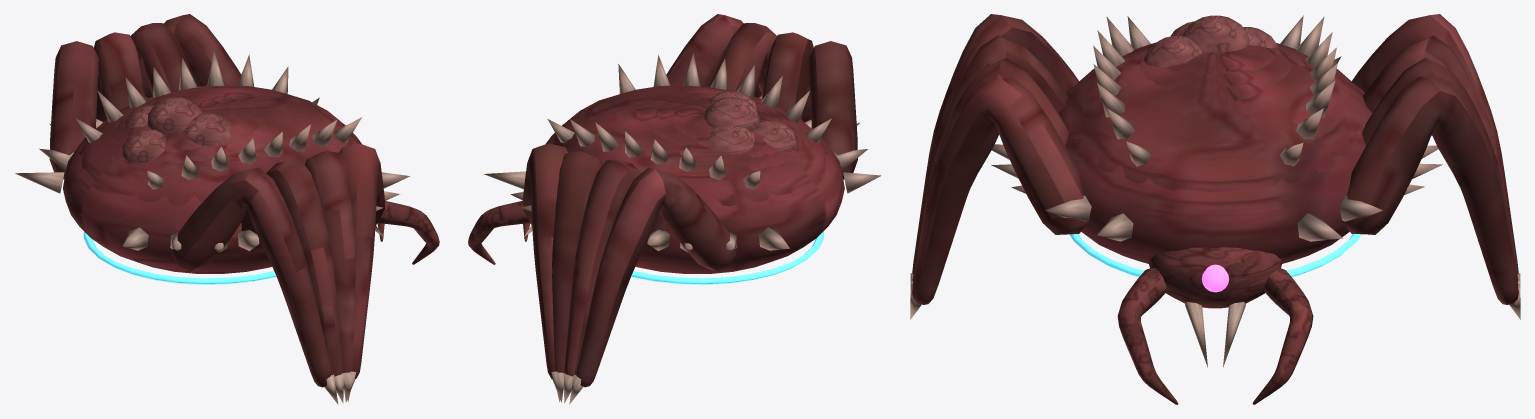
File: boss_leviathan.glb
The picture shows the model from 3 angles, left to right: view 1: azimuth 30°, elevation 25°; view 2: azimuth 150°, elevation 25°; view 3: azimuth 270°, elevation 25°; orthographic projection. The views are drawn at different scales.
Visible parts, largest first — view 1: boss_leviathan; view 2: boss_leviathan; view 3: boss_leviathan.
Boxes of the visible parts, x1,y1,x2,y2 form: boss_leviathan: (15,14,439,404); boss_leviathan: (468,14,880,404); boss_leviathan: (910,14,1520,404).
Size of the model in its own units: 3.04 by 1.87 by 3.8.
Materials: 6 (4 with a texture image).
